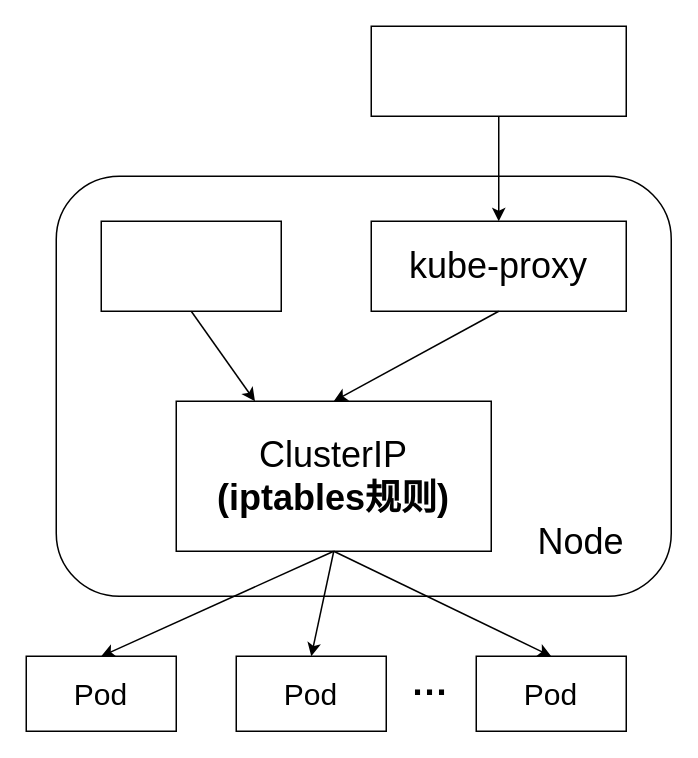
Image size: 698x758. Some labels were removed from this diagram. Each missing label, with the box of its shape:
API Server: (370, 25, 626, 116)
客户端: (100, 220, 281, 311)
